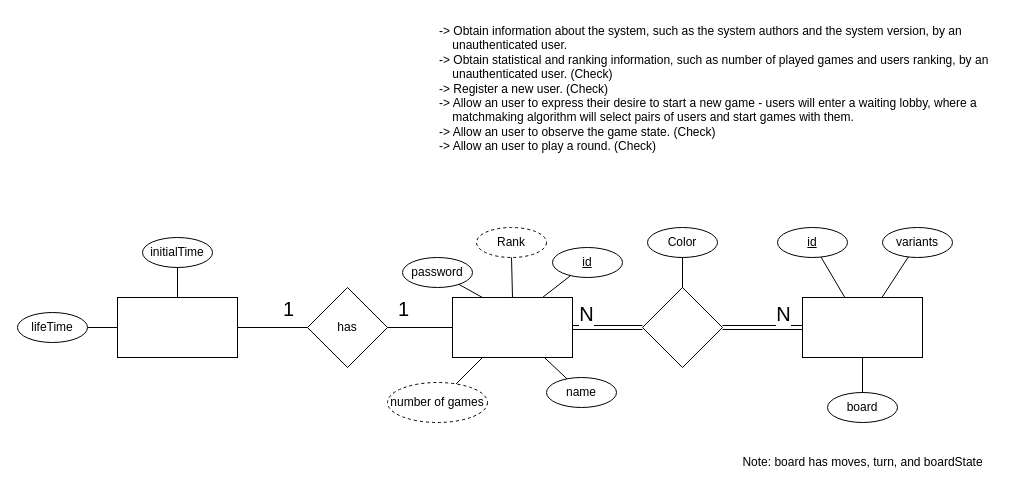
The diagram is 1015 pixels wide and 494 high, and some of its shapes have lost their labels. The centre of each missing label's shape, as x and y in pixels:
"Match" goes at [862,327].
"play" goes at [682,327].
"Token" goes at [177,327].
"User" goes at [512,327].
